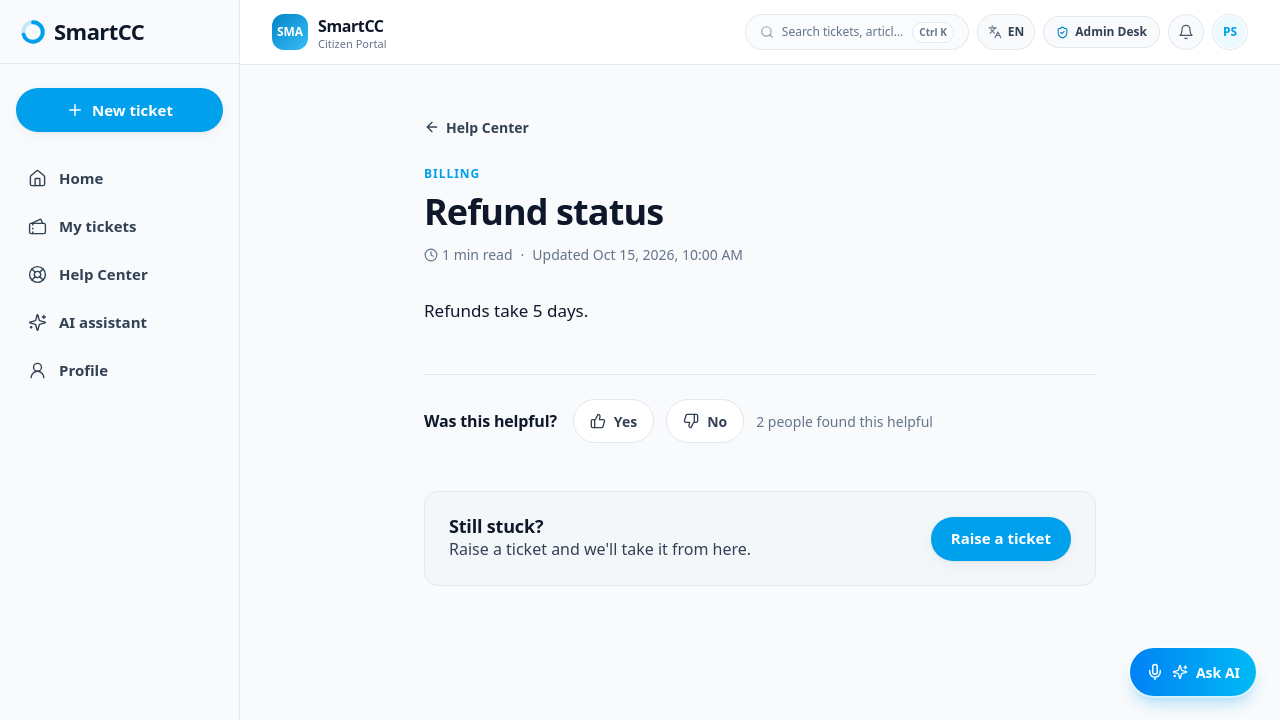
Test: KB helpful vote (server) › signed in: vote is POSTed and the returned counts/myVote are shown
The width and height of the screenshot is (1280, 720).
expect the text "2 people found this helpful" is shown: met, box x1=756 y1=411 x2=933 y2=432
Step 1. Click the button "Yes" → (614,421), box x1=573 y1=399 x2=654 y2=443
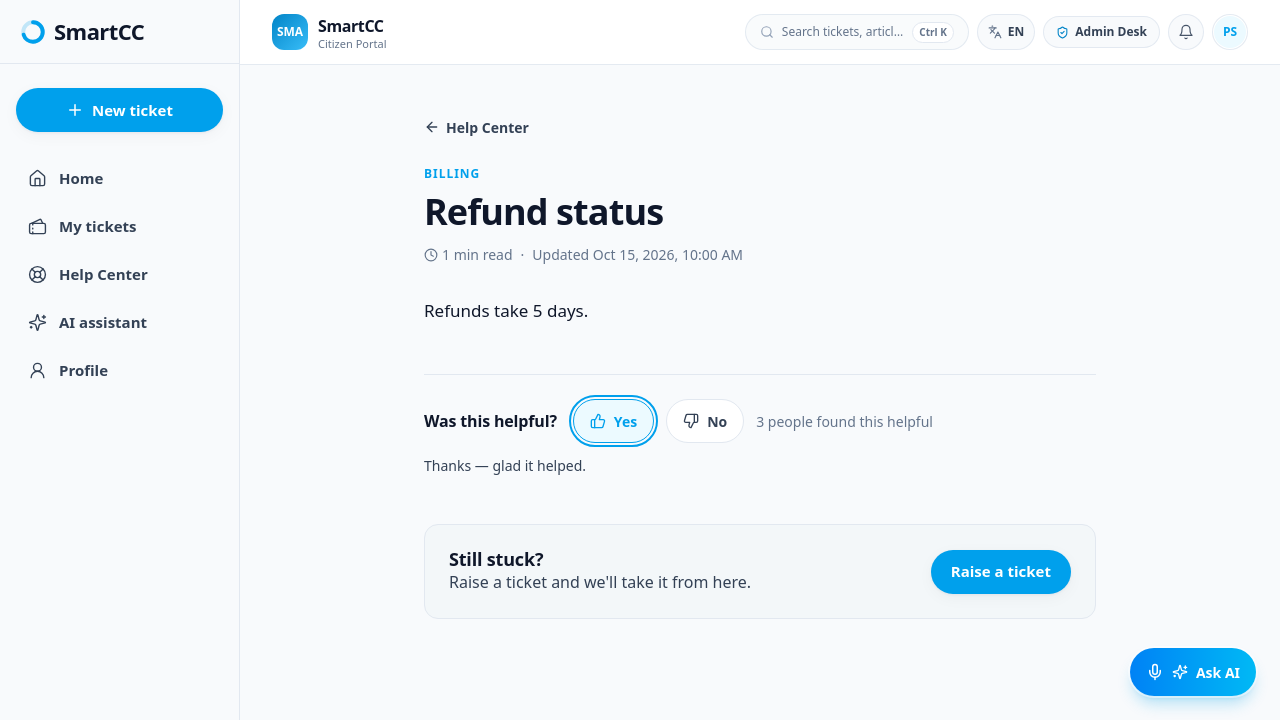
expect the text "3 people found this helpful" is shown: met, box x1=756 y1=411 x2=933 y2=432
expect the text "Thanks — glad it helped." is shown: met, box x1=424 y1=456 x2=586 y2=475
